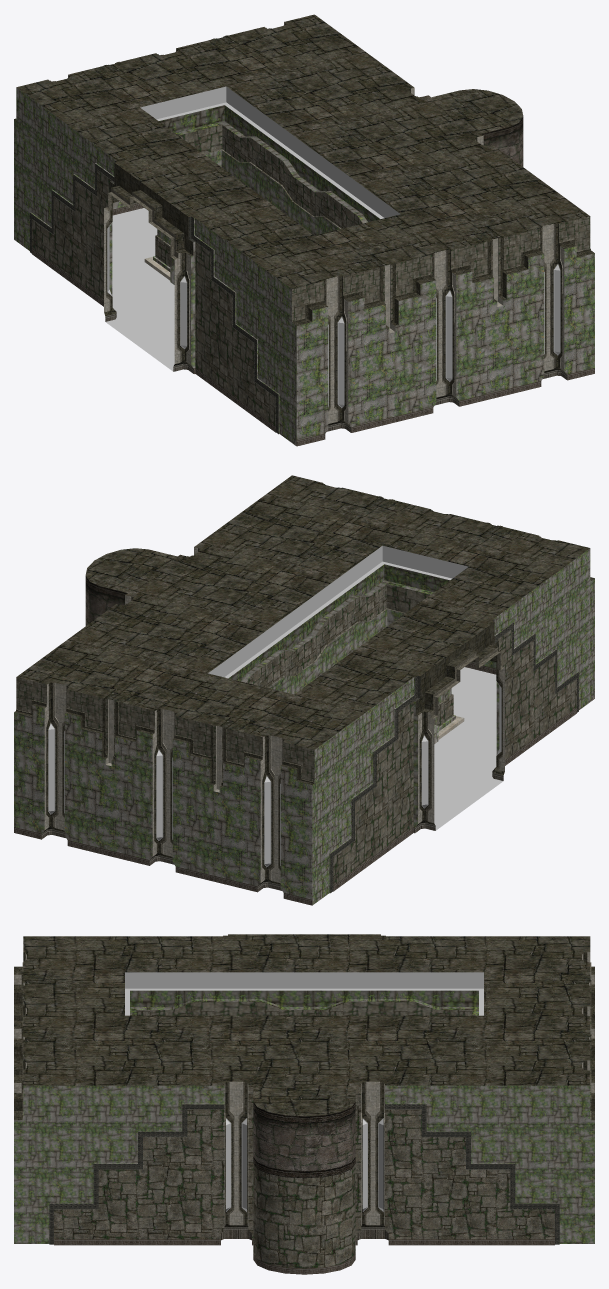
File: thm_yavn_palace_woolamander_r10_statue_wing_2_mesh.fbx
The picture shows the model from 3 angles, top to bottom: view 1: azimuth 30°, elevation 25°; view 2: azimuth 150°, elevation 25°; view 3: azimuth 270°, elevation 25°; orthographic projection. The views are drawn at different scales.
Parts seen in each view (by area): view 1: mesh_node; view 2: mesh_node; view 3: mesh_node.
Part boxes in pixels (x1,y1,x2,y2): mesh_node: (14,14,594,446); mesh_node: (14,475,594,905); mesh_node: (14,934,594,1274).
Bounding box in the file's own units: 26.05 × 10.22 × 34.
